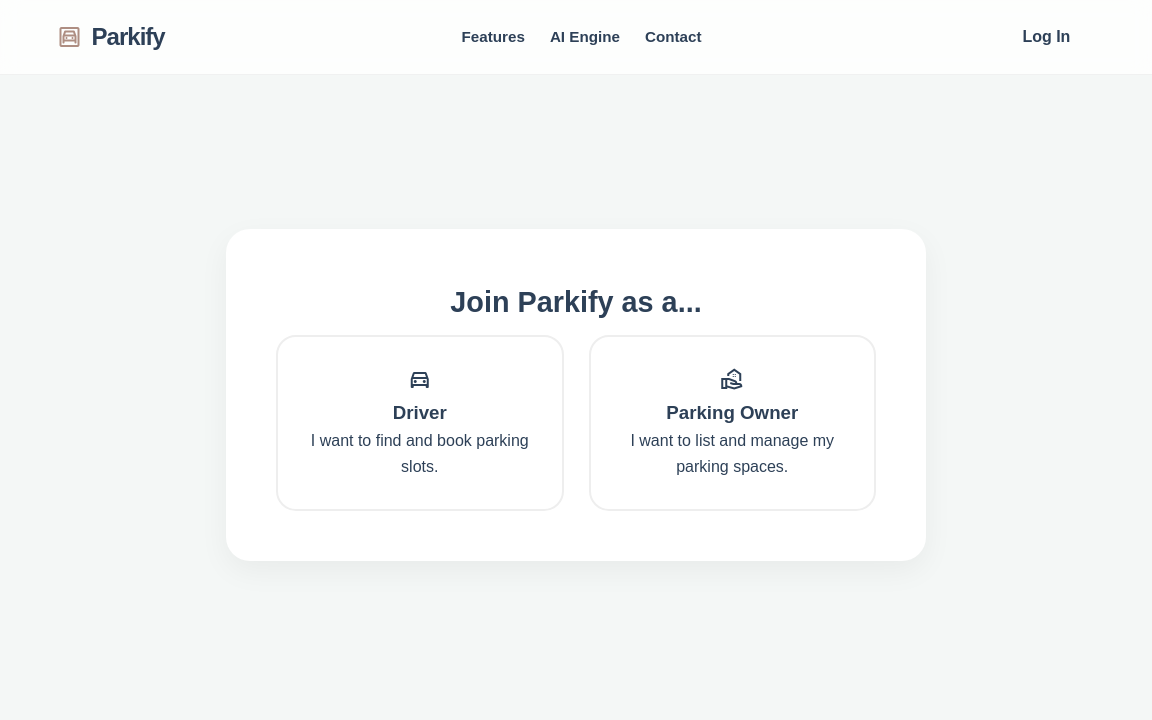
Registration Page Tests › navigates to step 2 when Driver is selected
Click the text "Driver I want to find and book parking slots.": [420, 423] box [276,335,564,511]
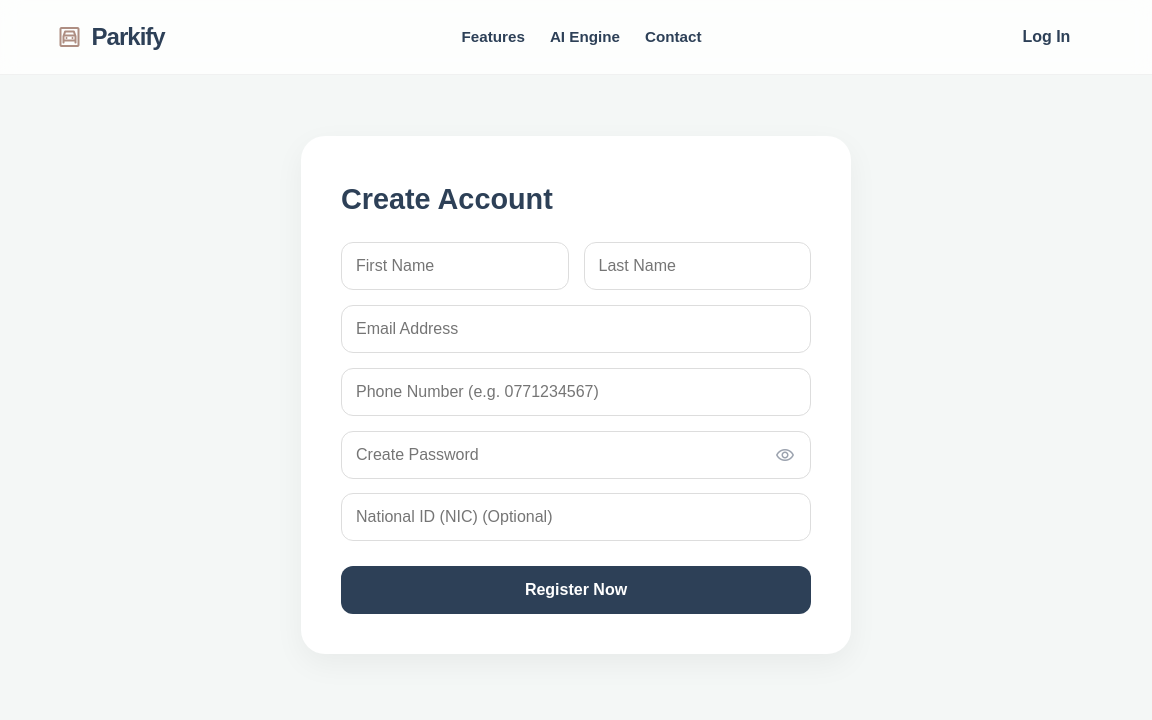
Result: the heading "Create Account" is shown at [341,183,553,215]
